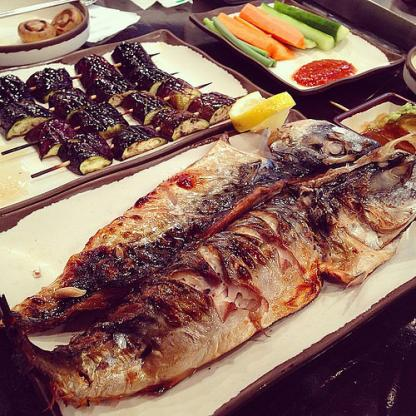Peixe: (4, 112, 416, 414)
